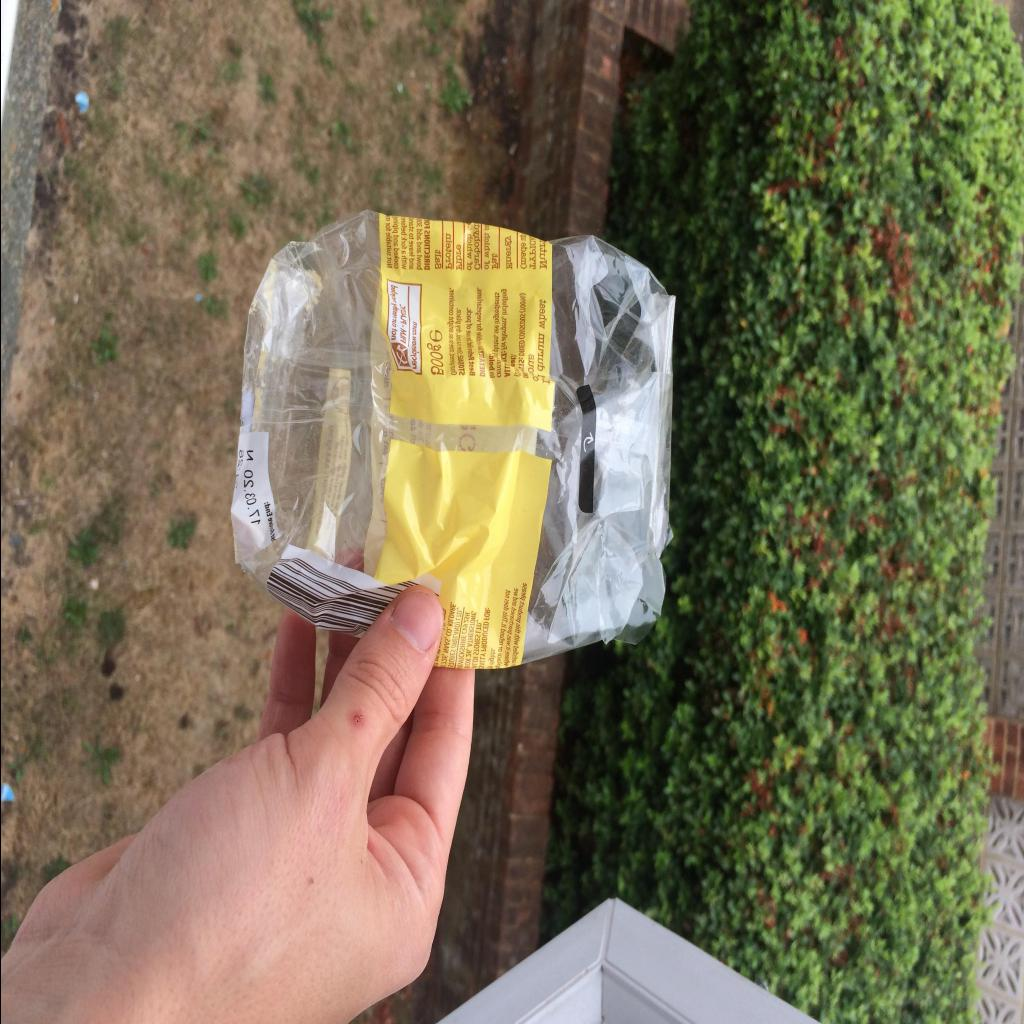Plastic film: (230, 210, 675, 670)
